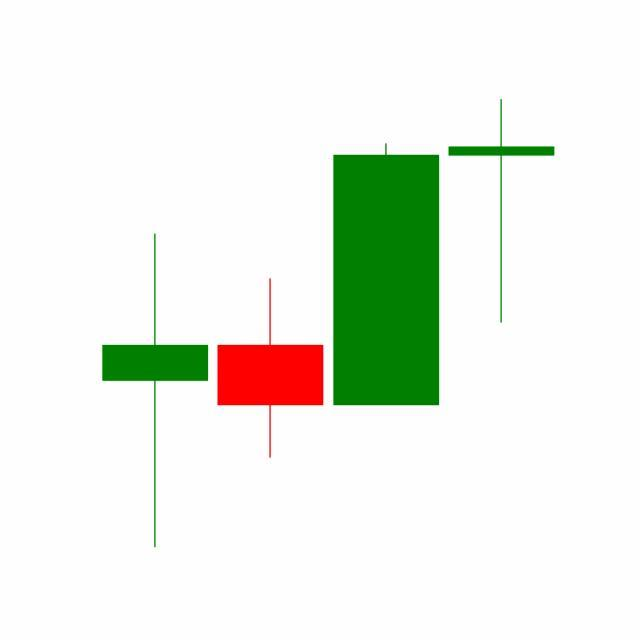Marubozu: (329, 141, 445, 409)
